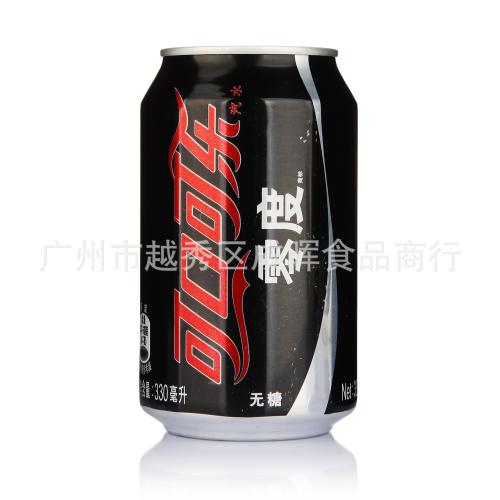coke_zero: (110, 23, 390, 464)
